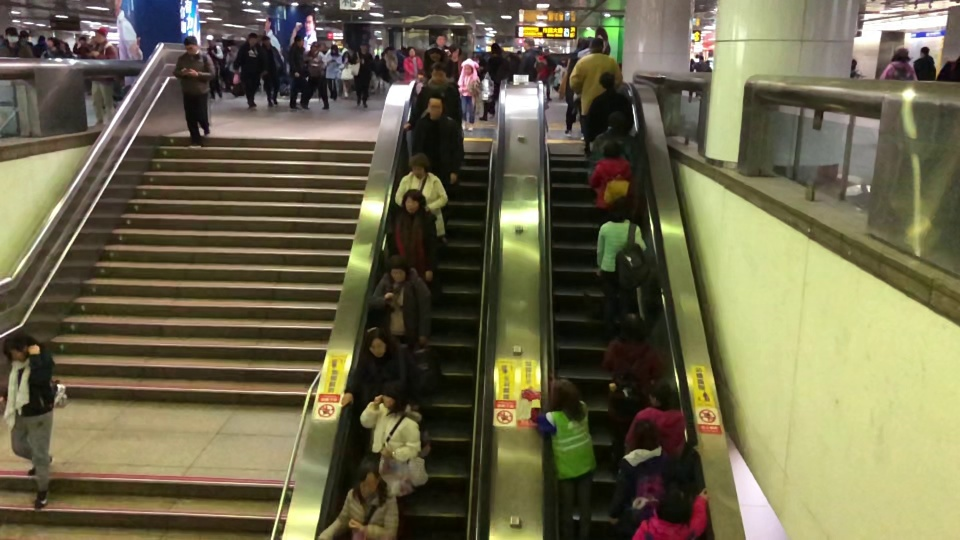person_head: (656, 487, 692, 523), (631, 418, 659, 452), (2, 331, 31, 361), (550, 378, 579, 408), (354, 465, 382, 495), (619, 311, 646, 341), (363, 326, 388, 355), (380, 380, 405, 409), (648, 378, 673, 405), (387, 254, 410, 282), (402, 188, 426, 213), (408, 152, 431, 177), (608, 201, 630, 222), (427, 93, 444, 119), (597, 70, 617, 90), (608, 112, 627, 132), (429, 62, 448, 81), (600, 139, 620, 156), (891, 47, 911, 62), (183, 34, 198, 52), (4, 25, 18, 42), (94, 27, 108, 43), (591, 39, 605, 53), (522, 37, 535, 50), (490, 41, 502, 55), (428, 47, 441, 59), (435, 34, 446, 46), (919, 45, 930, 57), (248, 32, 258, 43), (579, 38, 588, 50), (47, 37, 57, 47), (463, 62, 473, 72), (451, 45, 460, 56), (293, 35, 302, 45), (361, 42, 370, 52), (206, 34, 214, 45), (262, 34, 270, 45), (407, 46, 415, 55), (331, 44, 338, 54), (310, 42, 318, 50), (79, 35, 86, 43), (343, 48, 349, 57), (851, 58, 857, 67), (699, 54, 704, 61)
person_vbox: (522, 377, 597, 538), (602, 309, 664, 477), (608, 417, 702, 526), (1, 331, 57, 512), (410, 93, 465, 244), (596, 200, 647, 341), (369, 254, 434, 351), (340, 326, 409, 407), (359, 379, 422, 463), (624, 378, 685, 462), (172, 34, 216, 149), (386, 187, 439, 282), (394, 152, 448, 236), (630, 486, 710, 540), (330, 465, 399, 527), (569, 39, 623, 116), (402, 63, 462, 132), (586, 70, 635, 152), (587, 138, 635, 220), (588, 112, 643, 181), (85, 27, 119, 124), (564, 38, 589, 139), (233, 32, 263, 110), (479, 41, 506, 121), (304, 42, 330, 112), (261, 34, 285, 108), (457, 59, 480, 134), (350, 42, 373, 109), (288, 35, 307, 111), (518, 36, 549, 81), (878, 46, 917, 80), (205, 34, 224, 102), (0, 24, 33, 58), (325, 43, 342, 102), (912, 45, 936, 81), (402, 46, 423, 81), (341, 48, 353, 96), (41, 36, 65, 58), (72, 34, 86, 58), (849, 58, 865, 79), (694, 55, 708, 73)
